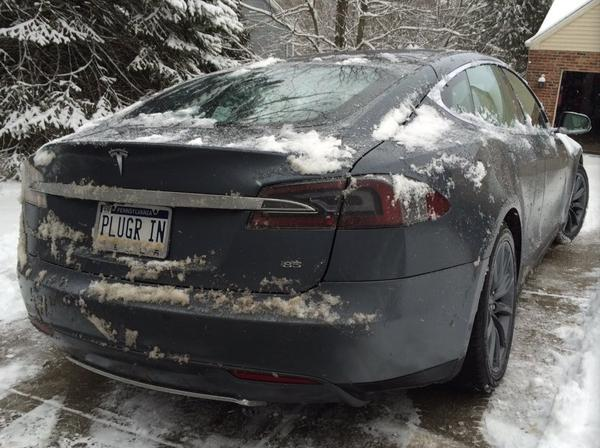license plate: (95, 202, 170, 266)
